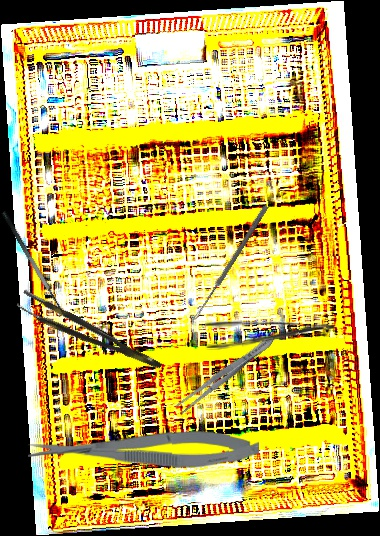Dressing Forceps: (173, 332, 278, 417), (204, 319, 337, 353)
Micro Scissor: (27, 426, 260, 470)
Spatula Surgical: (0, 205, 75, 322)
Surgical Spoon: (192, 204, 269, 322)
Tissue Forceps: (14, 288, 164, 382)
